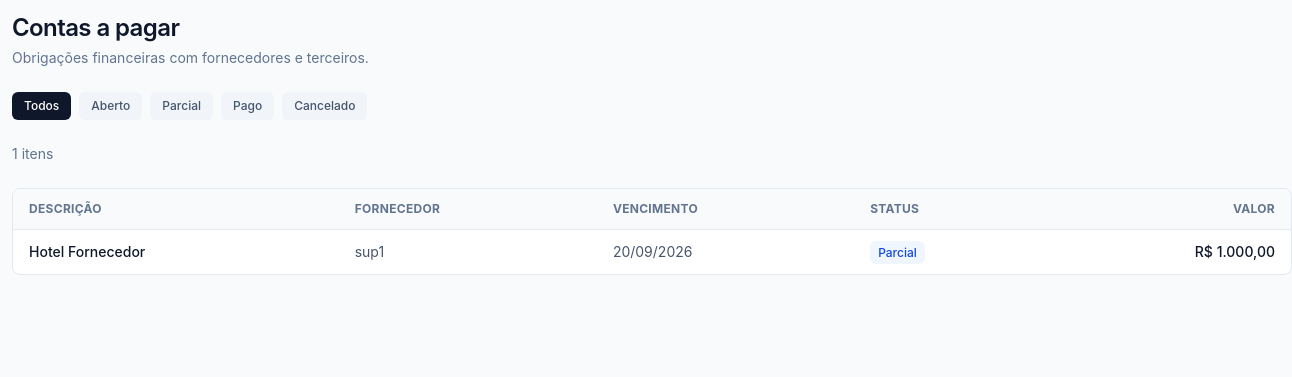
Test: PayablesPage › shows partial payment detail for PARTIALLY_PAID payable
expect the text "Hotel Fornecedor" is shown: met, box [13,230,339,274]
Click the text "Hotel Fornecedor". click: (652, 252)
box: [13,230,1291,274]
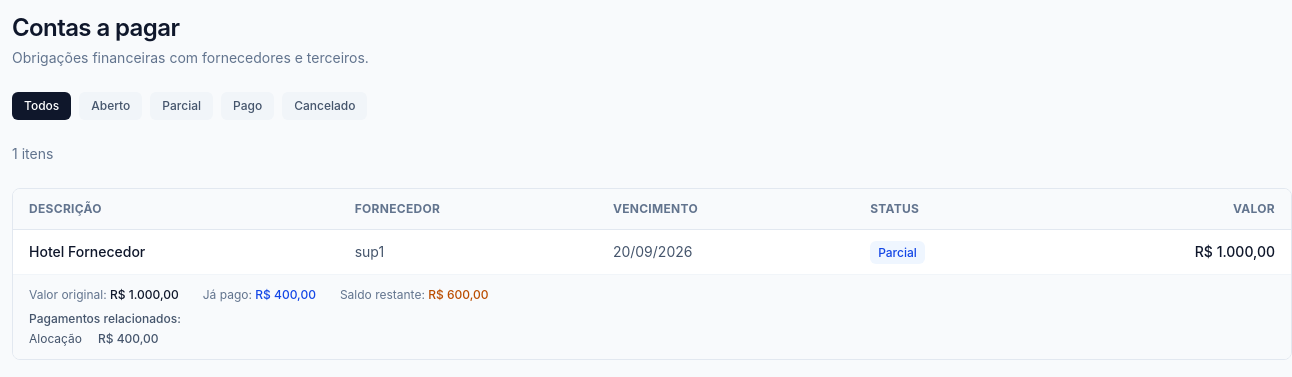
expect the text "Valor original:" is shown: met, box [29,287,110,302]
